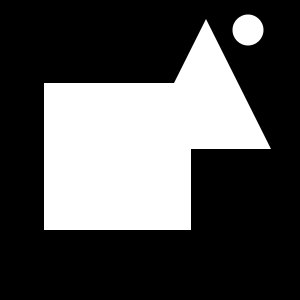circle: (44, 83, 191, 230)
rectangle: (232, 15, 264, 46)
triangle: (141, 19, 271, 149)
